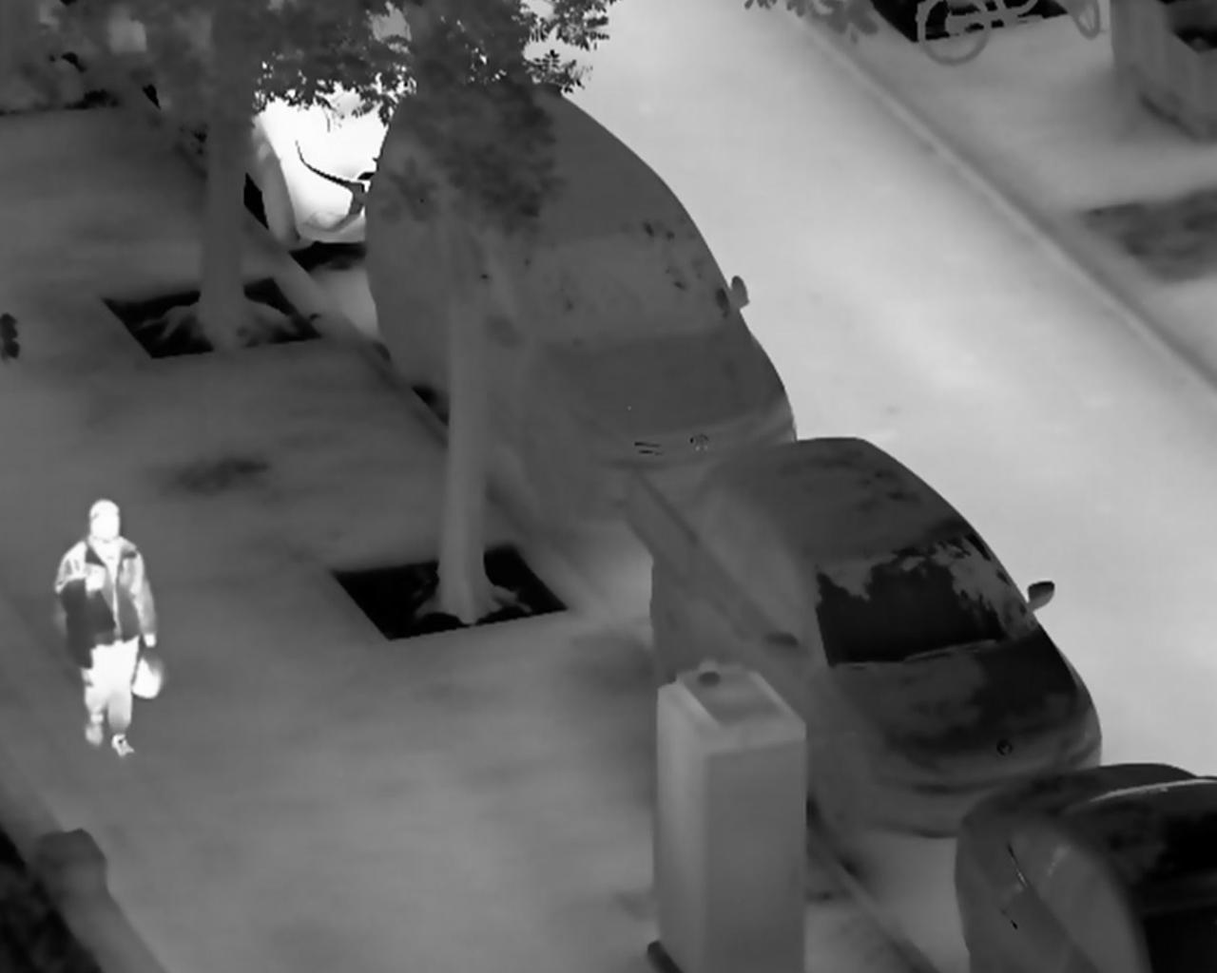person: (53, 495, 171, 764)
